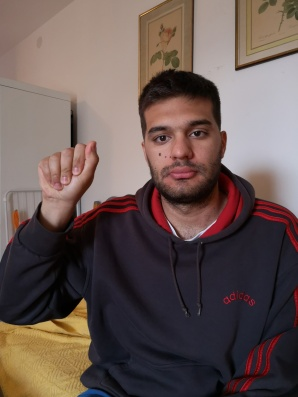A: (36, 139, 101, 202)
